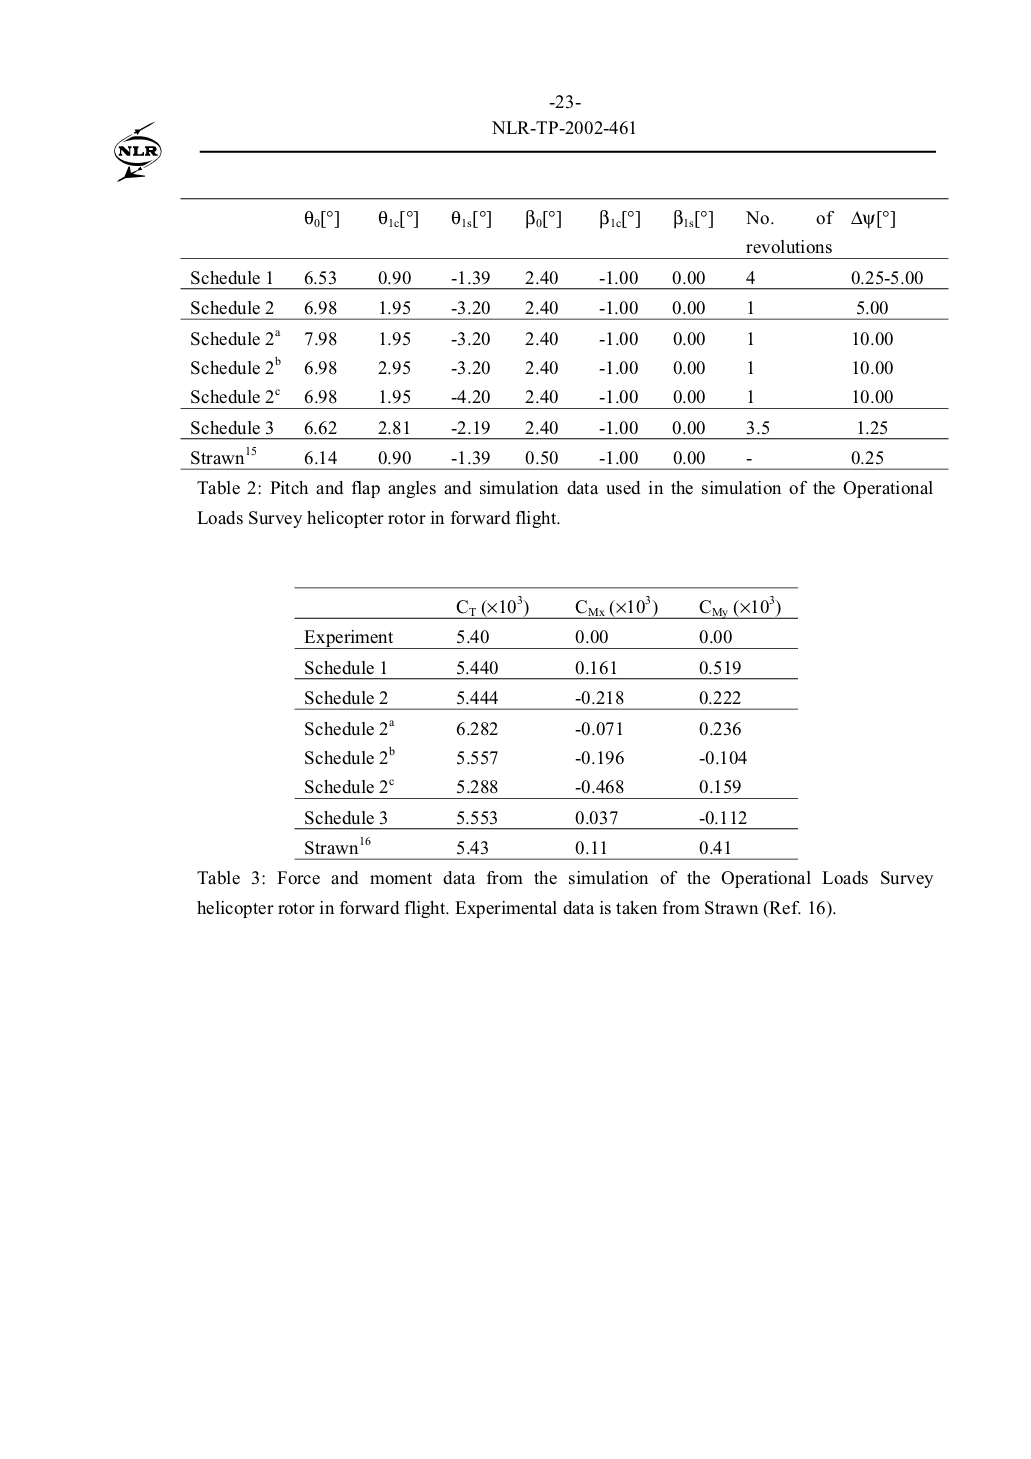Table: (180, 199, 948, 468), (293, 587, 797, 859)
figure: (114, 120, 161, 181)
